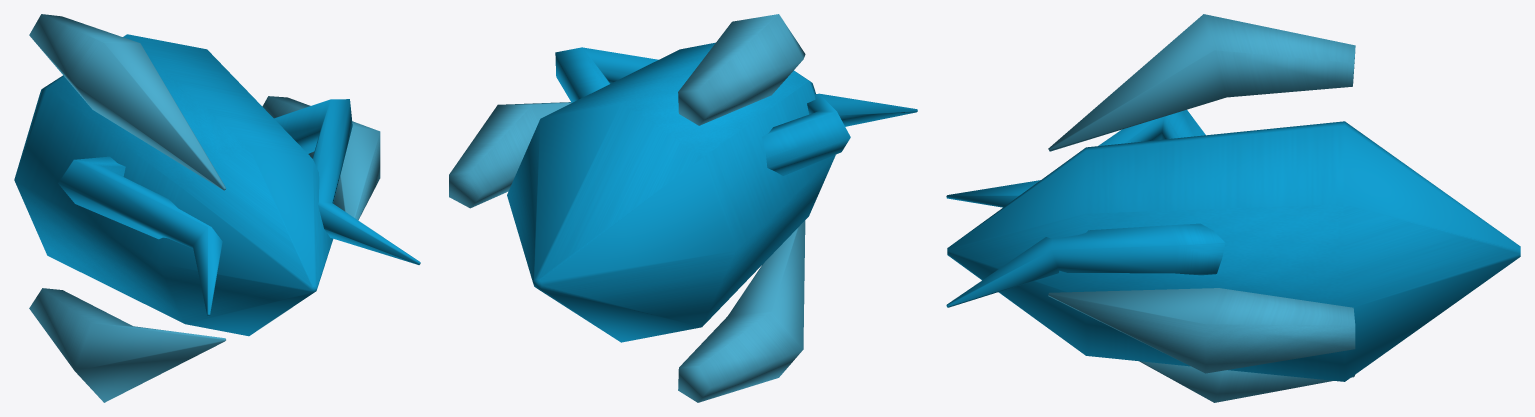
File: SM_storm_projectile.fbx
3 views of the same model, side by side, from view 1: azimuth 30°, elevation 25°; view 2: azimuth 150°, elevation 25°; view 3: azimuth 270°, elevation 25° (orthographic). The views are drawn at different scales.
Visible parts, largest first — view 1: SM_storm_projectile; view 2: SM_storm_projectile; view 3: SM_storm_projectile.
Boxes of the visible parts, left/top/right/bottom form: SM_storm_projectile: left=14, top=14, right=420, bottom=402; SM_storm_projectile: left=449, top=14, right=917, bottom=402; SM_storm_projectile: left=946, top=14, right=1520, bottom=402.
Bounding box in the file's own units: 0.2229 × 0.3105 × 0.2282.
